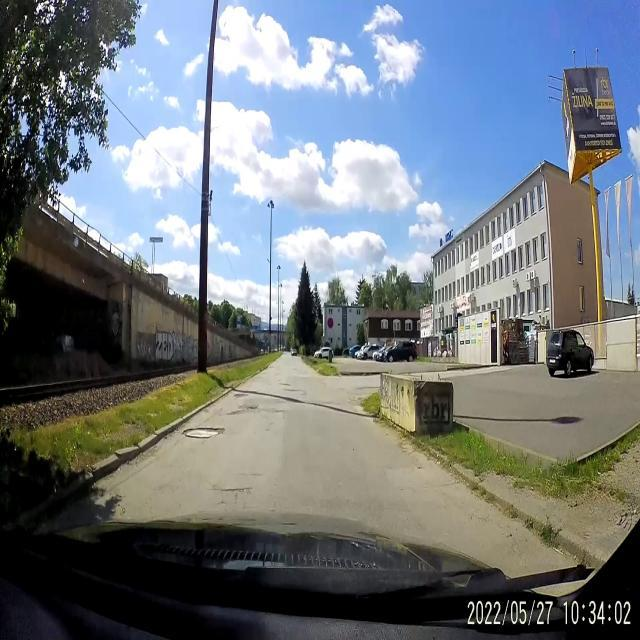Pothole: (182, 422, 228, 444), (214, 484, 252, 498), (232, 404, 260, 418)
